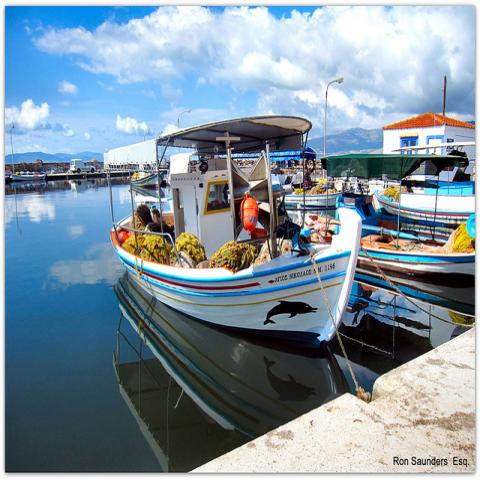car: (70, 158, 96, 174)
